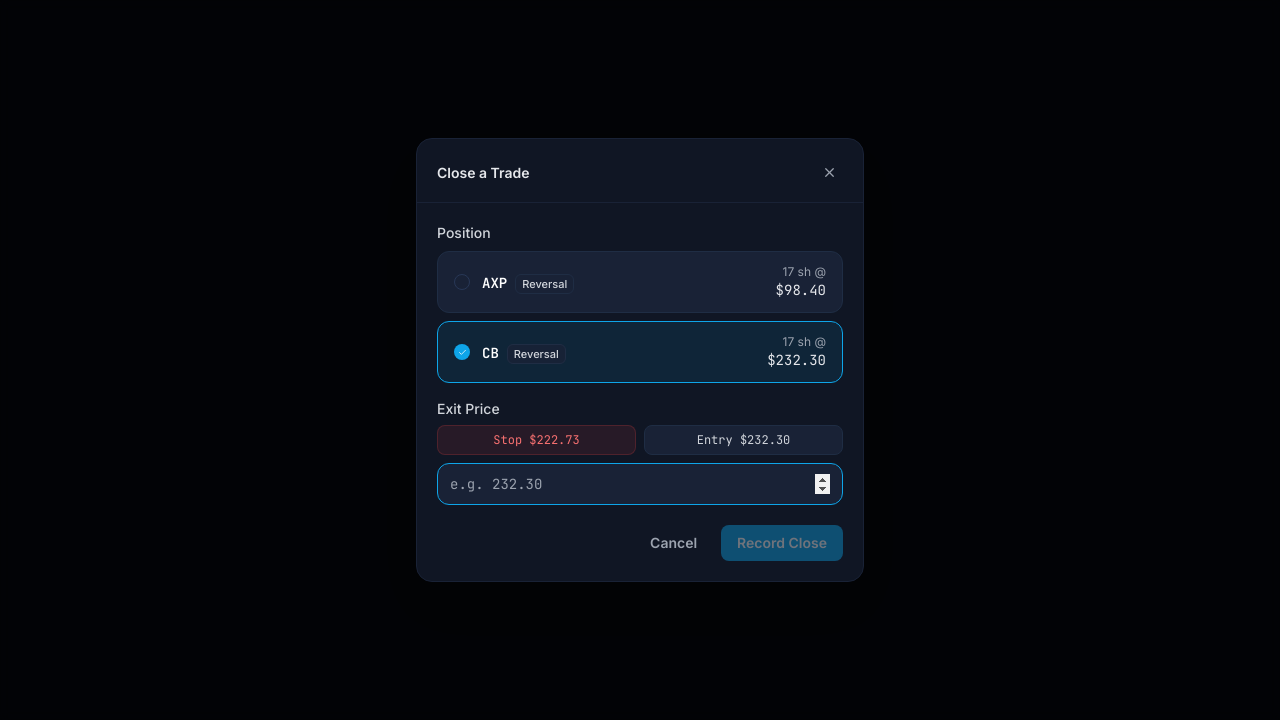
Test case: LogTradeModal (close a position) › preselects the trade it was opened for, and quick-fills the stop
Click the button "Stop $222.73" at x=536, y=440, box [437,425,636,455]
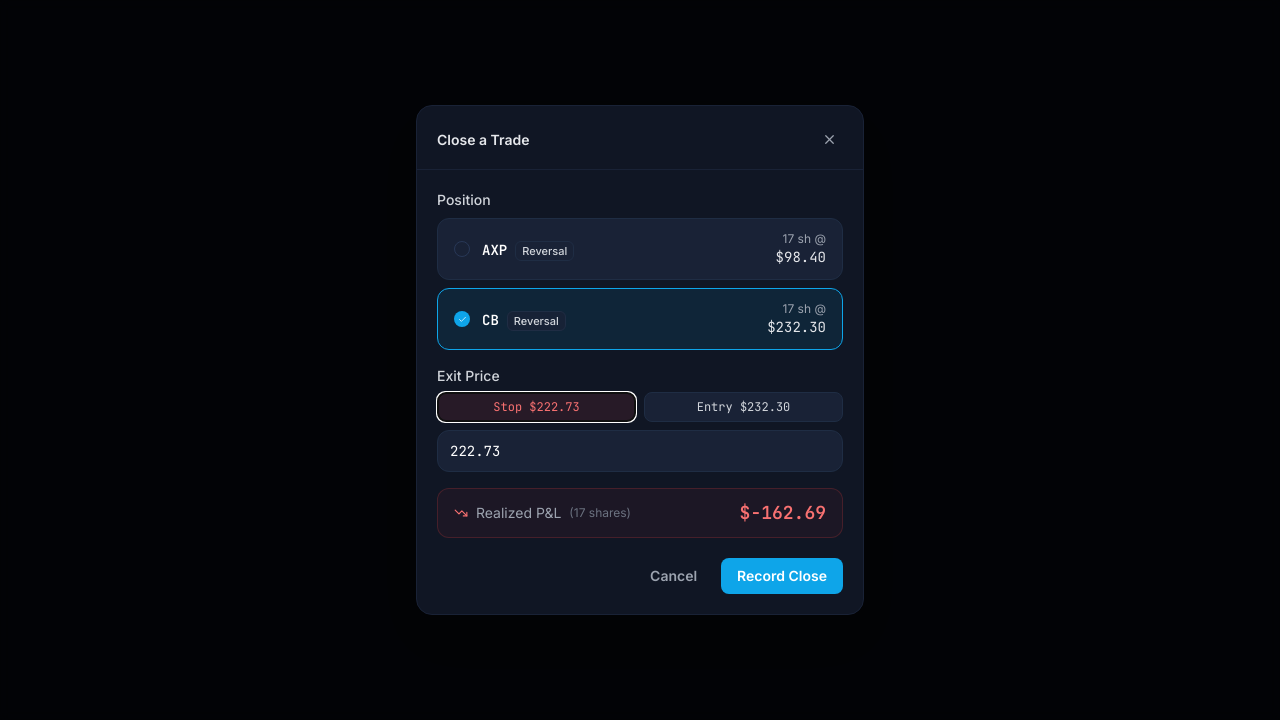
Expected: the number field labelled "Exit Price" holds "222.73", [437,430,843,472]
